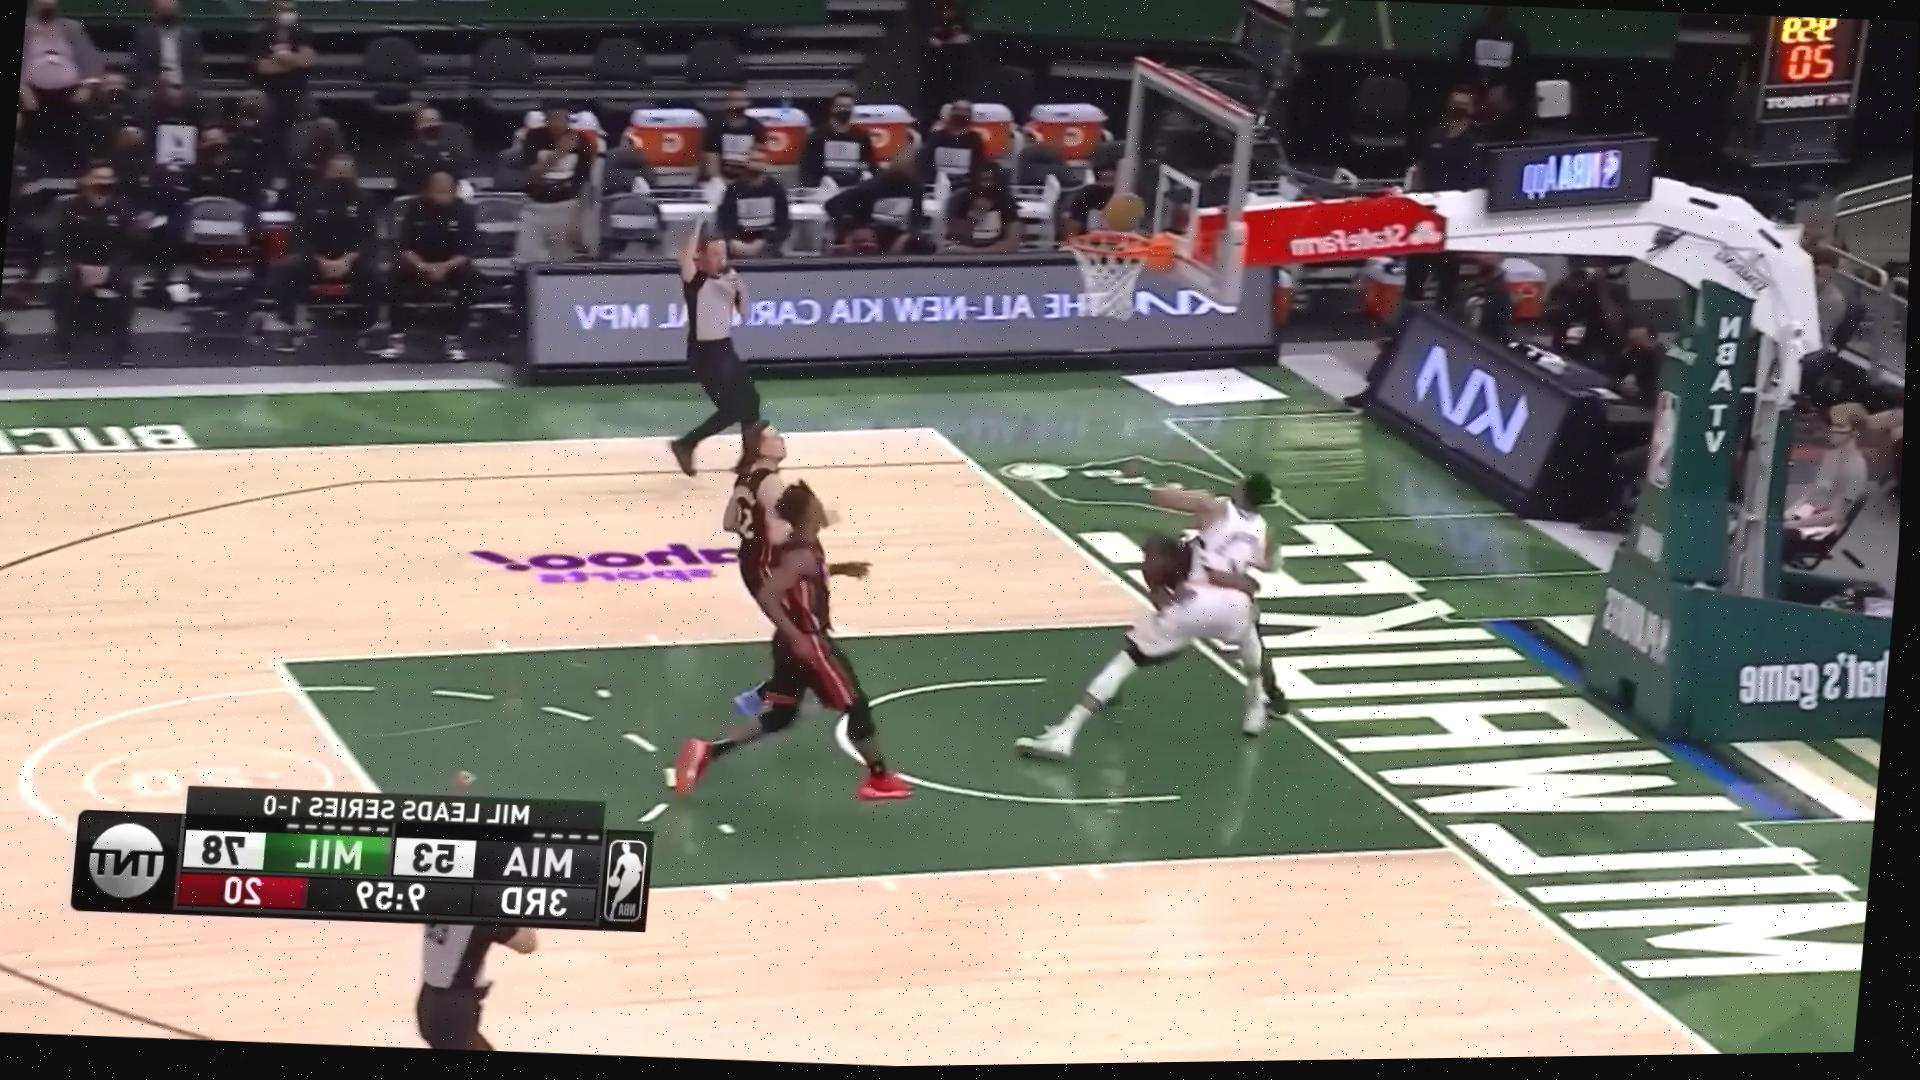foul: (1036, 436, 1335, 810)
